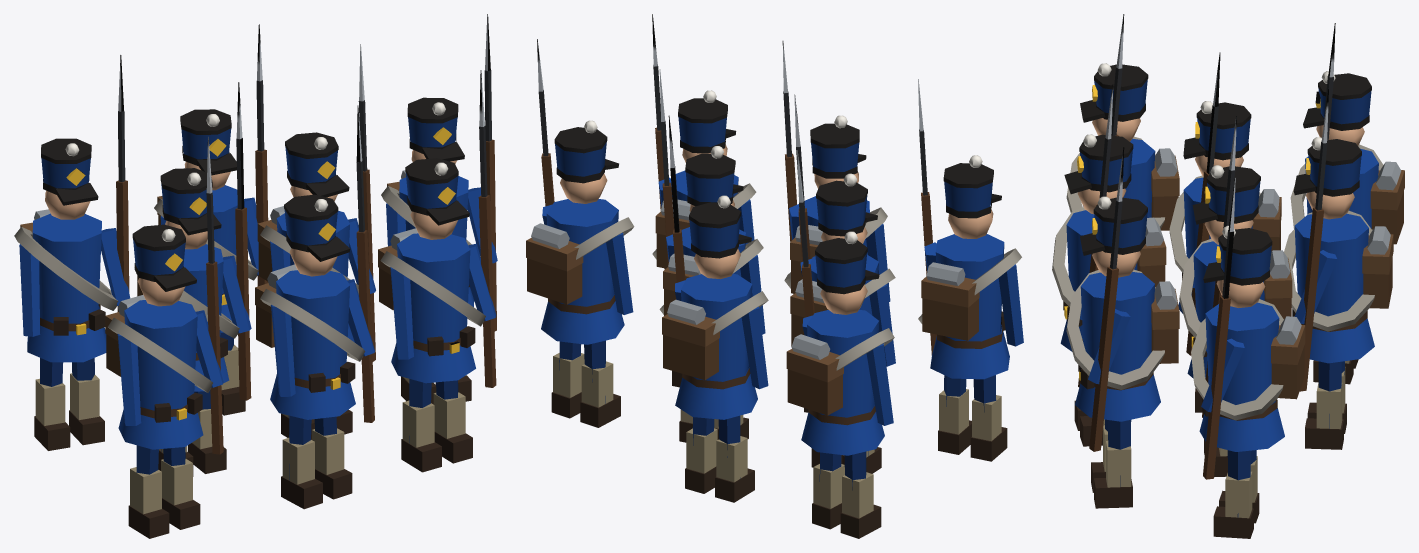
Rendered from squad_dl5_blue.glb.
3 views of the same model, side by side, from view 1: azimuth 30°, elevation 25°; view 2: azimuth 150°, elevation 25°; view 3: azimuth 270°, elevation 25° (orthographic). The views are drawn at different scales.
Parts seen in each view (by area): view 1: squad_dl5_blue; view 2: squad_dl5_blue; view 3: squad_dl5_blue.
Boxes of the visible parts, bbox=[...] form: squad_dl5_blue: bbox=[14, 14, 497, 538]; squad_dl5_blue: bbox=[526, 14, 1023, 538]; squad_dl5_blue: bbox=[1052, 14, 1404, 538].
Size of the model in its own units: 0.6357 by 0.5225 by 0.449.
1 material, 1 textured.
